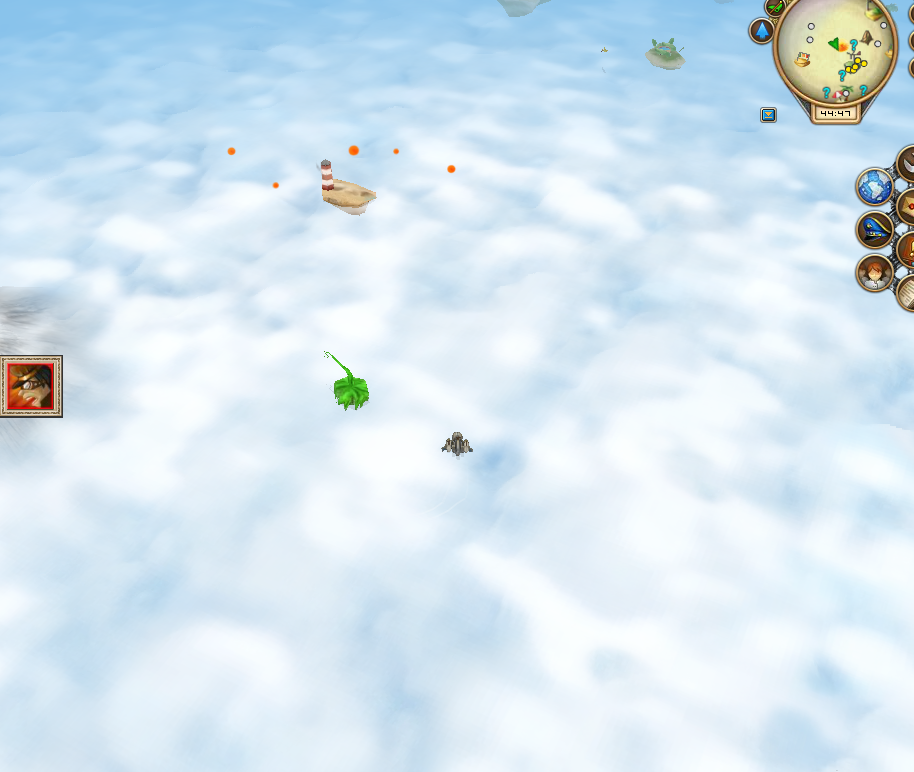dandelion-empty: (319, 348, 375, 413)
fluff: (347, 143, 362, 159), (225, 144, 238, 157), (446, 163, 458, 177), (269, 180, 281, 192), (389, 146, 401, 157)
